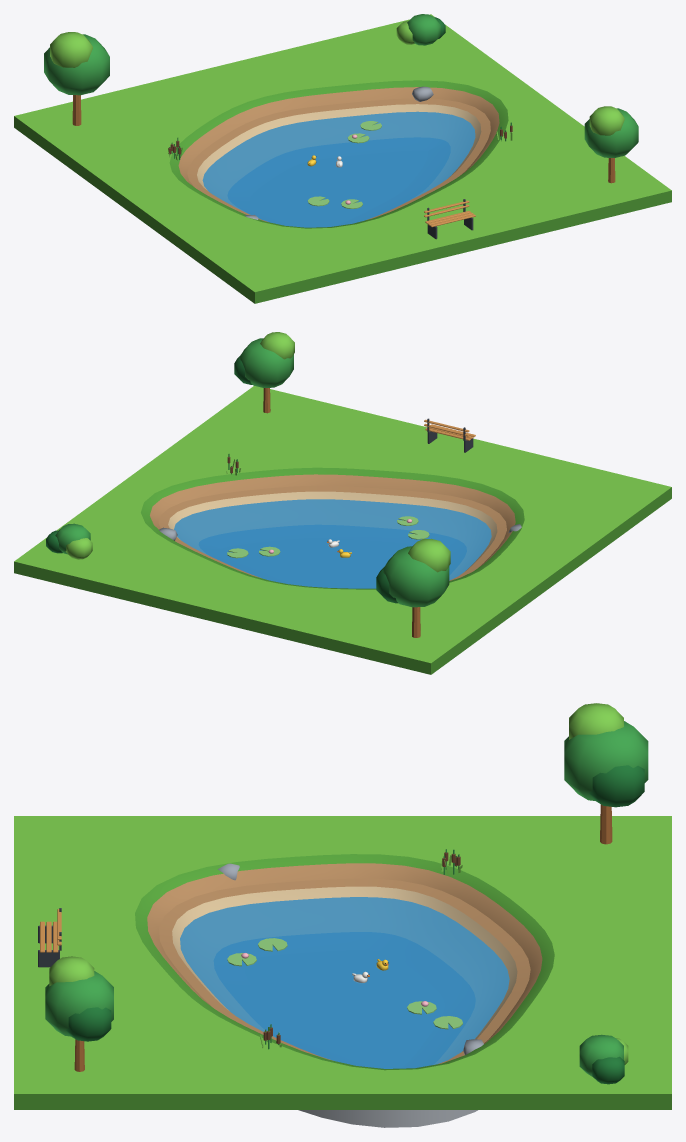
The model's file is lago.glb.
The picture shows the model from 3 angles, top to bottom: view 1: azimuth 30°, elevation 25°; view 2: azimuth 150°, elevation 25°; view 3: azimuth 270°, elevation 25°; orthographic projection. The views are drawn at different scales.
Visible parts, largest first — view 1: lago; view 2: lago; view 3: lago.
Boxes of the visible parts, x1,y1,x2,y2 form: lago: (14, 14, 671, 303); lago: (14, 332, 671, 674); lago: (14, 703, 671, 1127).
Size of the model in its own units: 15 by 4.68 by 15.
Materials: 2 (1 with a texture image).
